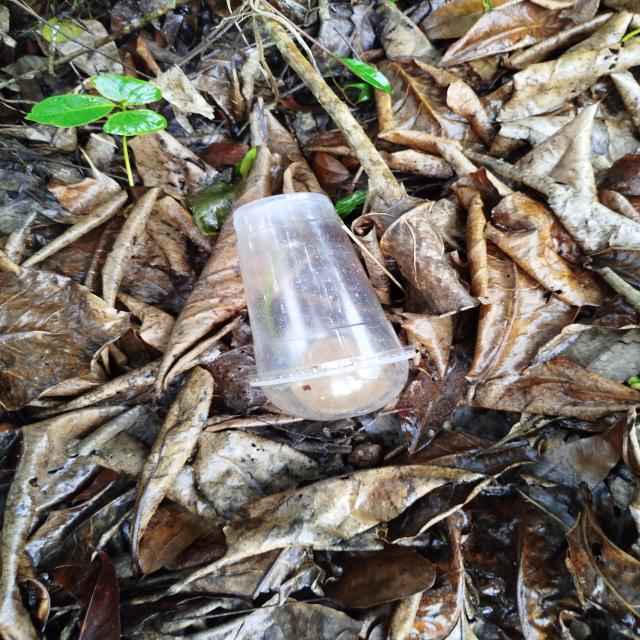plastic: (218, 181, 440, 439)
